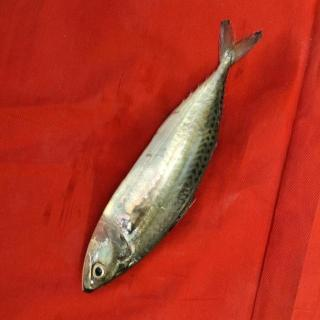Ikan: (73, 13, 271, 298)
